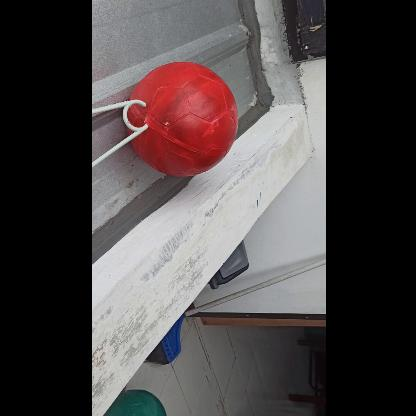red_ball: (122, 61, 238, 177)
